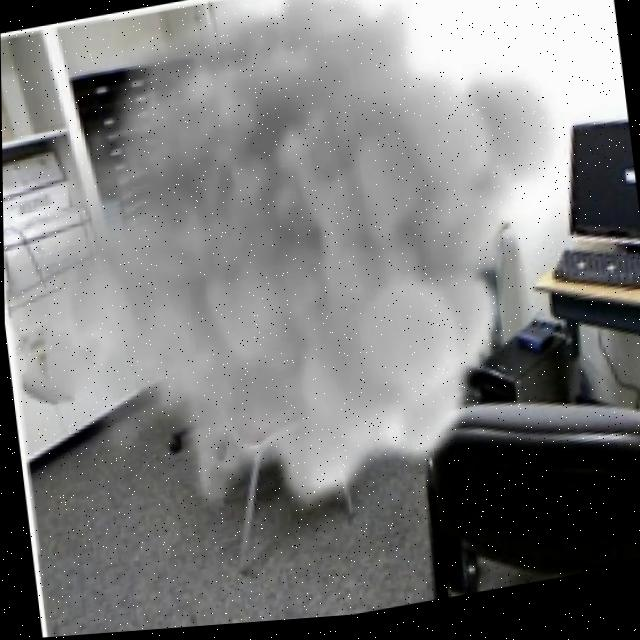Smoke: (47, 0, 531, 535)
